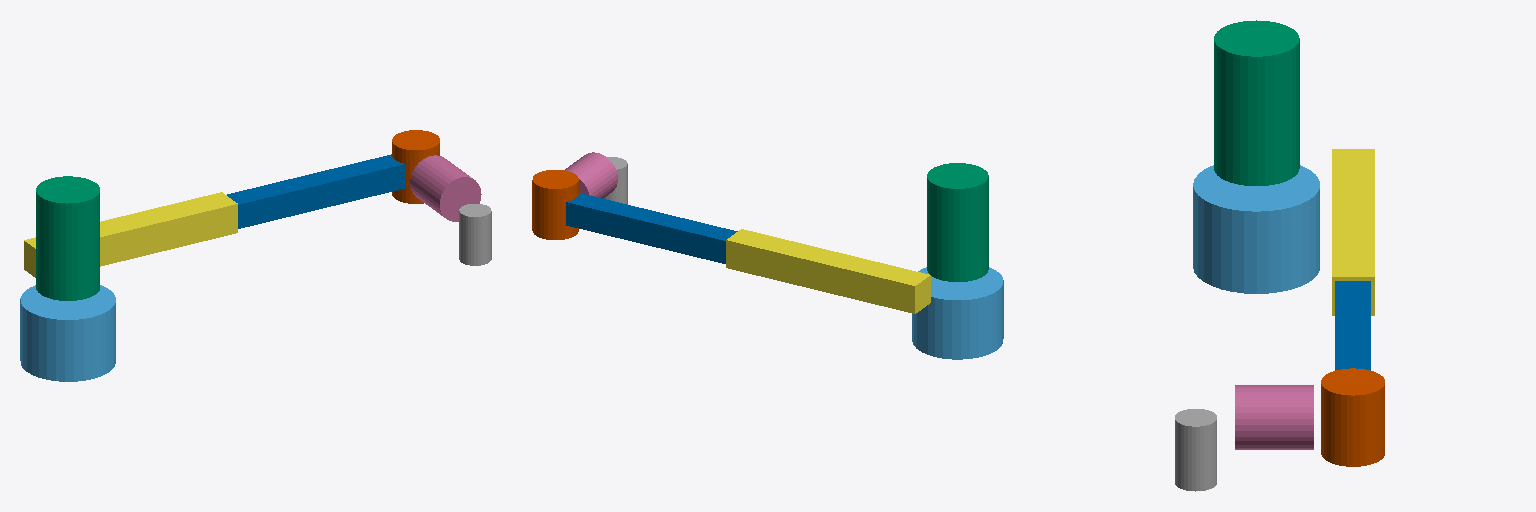
The robot description file, URDF, robot "ur5":
<?xml version="1.0"?>
<robot name="ur5">
  <!-- UR5 是工业机械臂的标准模型 -->
  
  <!-- Base Link -->
  <link name="world"/>
  
  <link name="base_link">
    <inertial>
      <origin xyz="0 0 0" rpy="0 0 0"/>
      <mass value="4.0"/>
      <inertia ixx="0.1" ixy="0" ixz="0" iyy="0.1" iyz="0" izz="0.1"/>
    </inertial>
    <visual>
      <origin xyz="0 0 0" rpy="0 0 0"/>
      <geometry>
        <cylinder radius="0.089" length="0.127"/>
      </geometry>
    </visual>
  </link>

  <joint name="world_to_base" type="fixed">
    <parent link="world"/>
    <child link="base_link"/>
    <origin xyz="0 0 0" rpy="0 0 0"/>
  </joint>

  <!-- Joint 1 (Shoulder Pan) -->
  <link name="shoulder_link">
    <inertial>
      <origin xyz="0 0 0.1" rpy="0 0 0"/>
      <mass value="3.7"/>
      <inertia ixx="0.010" ixy="0" ixz="0" iyy="0.010" iyz="0" izz="0.005"/>
    </inertial>
    <visual>
      <origin xyz="0 0 0.1" rpy="0 0 0"/>
      <geometry>
        <cylinder radius="0.06" length="0.2"/>
      </geometry>
    </visual>
  </link>

  <joint name="joint_1" type="revolute">
    <parent link="base_link"/>
    <child link="shoulder_link"/>
    <origin xyz="0 0 0.089" rpy="0 0 0"/>
    <axis xyz="0 0 1"/>
    <limit lower="-3.14159" upper="3.14159" effort="150" velocity="3.14159"/>
    <dynamics damping="0.5" friction="0.5"/>
  </joint>

  <!-- Joint 2 (Shoulder Lift) -->
  <link name="upper_arm_link">
    <inertial>
      <origin xyz="0.2125 0 0" rpy="0 0 0"/>
      <mass value="8.393"/>
      <inertia ixx="0.220" ixy="0" ixz="0" iyy="0.220" iyz="0" izz="0.05"/>
    </inertial>
    <visual>
      <origin xyz="0.2125 0 0" rpy="0 0 0"/>
      <geometry>
        <box size="0.425 0.06 0.06"/>
      </geometry>
    </visual>
  </link>

  <joint name="joint_2" type="revolute">
    <parent link="shoulder_link"/>
    <child link="upper_arm_link"/>
    <origin xyz="0 0.135 0" rpy="1.5708 0 0"/>
    <axis xyz="0 1 0"/>
    <limit lower="-3.14159" upper="3.14159" effort="150" velocity="3.14159"/>
    <dynamics damping="0.5" friction="0.5"/>
  </joint>

  <!-- Joint 3 (Elbow) -->
  <link name="forearm_link">
    <inertial>
      <origin xyz="0.2 0 0" rpy="0 0 0"/>
      <mass value="2.275"/>
      <inertia ixx="0.05" ixy="0" ixz="0" iyy="0.05" iyz="0" izz="0.01"/>
    </inertial>
    <visual>
      <origin xyz="0.2 0 0" rpy="0 0 0"/>
      <geometry>
        <box size="0.4 0.05 0.05"/>
      </geometry>
    </visual>
  </link>

  <joint name="joint_3" type="revolute">
    <parent link="upper_arm_link"/>
    <child link="forearm_link"/>
    <origin xyz="0.425 0 0" rpy="0 0 0"/>
    <axis xyz="0 1 0"/>
    <limit lower="-3.14159" upper="3.14159" effort="100" velocity="3.14159"/>
    <dynamics damping="0.3" friction="0.3"/>
  </joint>

  <!-- Joint 4 (Wrist 1) -->
  <link name="wrist1_link">
    <inertial>
      <origin xyz="0 0 0" rpy="0 0 0"/>
      <mass value="1.219"/>
      <inertia ixx="0.008" ixy="0" ixz="0" iyy="0.008" iyz="0" izz="0.005"/>
    </inertial>
    <visual>
      <origin xyz="0 0 0" rpy="0 0 0"/>
      <geometry>
        <cylinder radius="0.045" length="0.11"/>
      </geometry>
    </visual>
  </link>

  <joint name="joint_4" type="revolute">
    <parent link="forearm_link"/>
    <child link="wrist1_link"/>
    <origin xyz="0.4 0 0" rpy="1.5708 0 0"/>
    <axis xyz="0 1 0"/>
    <limit lower="-3.14159" upper="3.14159" effort="60" velocity="3.14159"/>
    <dynamics damping="0.2" friction="0.2"/>
  </joint>

  <!-- Joint 5 (Wrist 2) -->
  <link name="wrist2_link">
    <inertial>
      <origin xyz="0 0 0" rpy="0 0 0"/>
      <mass value="1.219"/>
      <inertia ixx="0.008" ixy="0" ixz="0" iyy="0.008" iyz="0" izz="0.005"/>
    </inertial>
    <visual>
      <origin xyz="0 0 0" rpy="0 0 0"/>
      <geometry>
        <cylinder radius="0.045" length="0.11"/>
      </geometry>
    </visual>
  </link>

  <joint name="joint_5" type="revolute">
    <parent link="wrist1_link"/>
    <child link="wrist2_link"/>
    <origin xyz="0 0.11 0" rpy="-1.5708 0 0"/>
    <axis xyz="0 0 1"/>
    <limit lower="-3.14159" upper="3.14159" effort="60" velocity="3.14159"/>
    <dynamics damping="0.2" friction="0.2"/>
  </joint>

  <!-- Joint 6 (Wrist 3) -->
  <link name="tool_link">
    <inertial>
      <origin xyz="0 0 0.05" rpy="0 0 0"/>
      <mass value="0.5"/>
      <inertia ixx="0.001" ixy="0" ixz="0" iyy="0.001" iyz="0" izz="0.001"/>
    </inertial>
    <visual>
      <origin xyz="0 0 0.05" rpy="0 0 0"/>
      <geometry>
        <cylinder radius="0.03" length="0.1"/>
      </geometry>
    </visual>
  </link>

  <joint name="joint_6" type="revolute">
    <parent link="wrist2_link"/>
    <child link="tool_link"/>
    <origin xyz="0 0 0.11" rpy="1.5708 0 0"/>
    <axis xyz="0 1 0"/>
    <limit lower="-3.14159" upper="3.14159" effort="60" velocity="3.14159"/>
    <dynamics damping="0.1" friction="0.1"/>
  </joint>

</robot>

--- Facts derived from the render (not from the file) ---
Views: 3 orthographic renders of the robot side by side, from view 1: azimuth 30°, elevation 25°; view 2: azimuth 150°, elevation 25°; view 3: azimuth 270°, elevation 25°.
Model ur5 with 8 links and 7 joints (6 revolute, 1 fixed), rooted at world, posed every joint at zero.
Visible links, largest first — view 1: base_link, shoulder_link, upper_arm_link, forearm_link, wrist2_link, tool_link, wrist1_link; view 2: upper_arm_link, shoulder_link, base_link, forearm_link, wrist1_link, wrist2_link, tool_link; view 3: base_link, shoulder_link, wrist1_link, upper_arm_link, wrist2_link, tool_link, forearm_link.
Boxes of the visible links, x1,y1,x2,y2 form: base_link: [20, 285, 115, 381]; shoulder_link: [36, 176, 99, 300]; upper_arm_link: [24, 192, 237, 277]; forearm_link: [227, 154, 405, 228]; wrist2_link: [410, 155, 481, 221]; tool_link: [459, 204, 491, 265]; wrist1_link: [392, 130, 439, 203]; upper_arm_link: [726, 229, 930, 313]; shoulder_link: [927, 163, 988, 281]; base_link: [912, 267, 1003, 359]; forearm_link: [566, 193, 737, 263]; wrist1_link: [532, 170, 578, 239]; wrist2_link: [565, 152, 617, 198]; tool_link: [604, 157, 627, 204]; base_link: [1193, 165, 1319, 293]; shoulder_link: [1214, 20, 1299, 185]; wrist1_link: [1321, 368, 1384, 466]; upper_arm_link: [1332, 149, 1374, 315]; wrist2_link: [1235, 385, 1313, 449]; tool_link: [1175, 409, 1216, 491]; forearm_link: [1335, 281, 1370, 370].
Size in the robot's own frame: 0.959 by 0.295 by 0.3525 metres.
Geometry: primitives only (box / cylinder / sphere), no mesh files.
